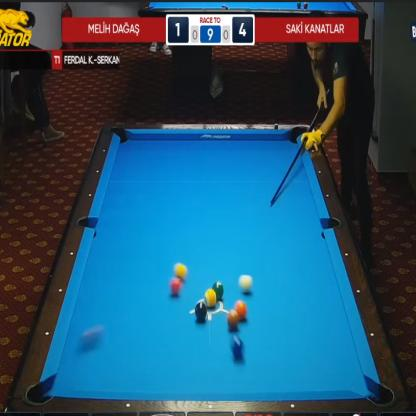Ball: (238, 274, 252, 293), (232, 338, 244, 359), (194, 302, 207, 321), (235, 300, 247, 320), (212, 281, 224, 300), (227, 309, 238, 329), (205, 289, 216, 308), (83, 328, 94, 347), (175, 263, 187, 279), (170, 278, 181, 295)
